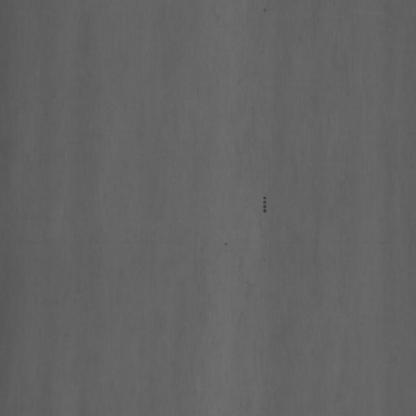oil_spot: (261, 193, 268, 217)
